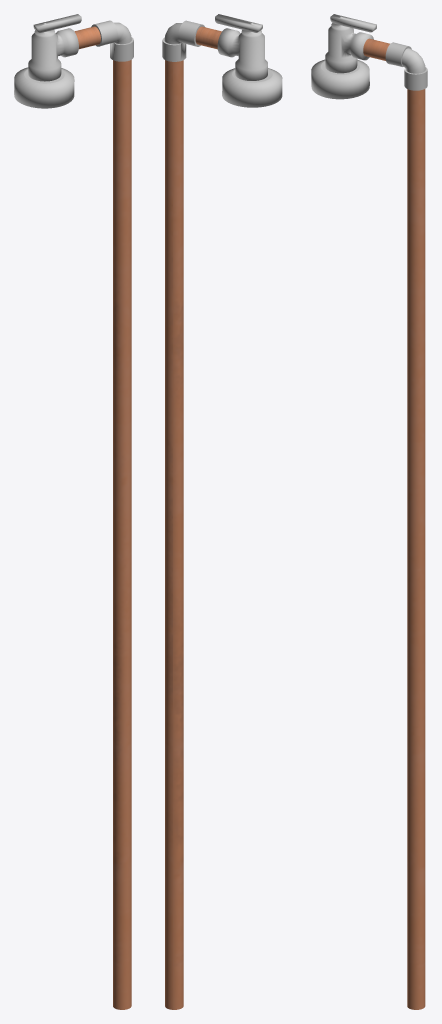
File: DWH PSV Line.fbx
The picture shows the model from 3 angles, left to right: view 1: azimuth 30°, elevation 25°; view 2: azimuth 150°, elevation 25°; view 3: azimuth 330°, elevation 25°; orthographic projection. The views are drawn at different scales.
Visible parts, largest first — view 1: Pipe 1.001, PSV, Exchanger Port.004, Elbow.021, Pipe 1.002; view 2: Pipe 1.001, PSV, Exchanger Port.004, Elbow.021, Pipe 1.002; view 3: Pipe 1.001, PSV, Exchanger Port.004, Elbow.021, Pipe 1.002.
Part boxes in pixels (x1=…): Pipe 1.001: x1=113, y1=60, x2=131, y2=1009; PSV: x1=28, y1=14, x2=81, y2=81; Exchanger Port.004: x1=14, y1=67, x2=74, y2=108; Elbow.021: x1=91, y1=20, x2=133, y2=61; Pipe 1.002: x1=74, y1=26, x2=100, y2=49; Pipe 1.001: x1=165, y1=60, x2=183, y2=1009; PSV: x1=215, y1=14, x2=267, y2=80; Exchanger Port.004: x1=222, y1=68, x2=282, y2=107; Elbow.021: x1=162, y1=20, x2=204, y2=61; Pipe 1.002: x1=195, y1=26, x2=221, y2=49; Pipe 1.001: x1=407, y1=89, x2=425, y2=1009; PSV: x1=325, y1=14, x2=376, y2=73; Exchanger Port.004: x1=311, y1=59, x2=369, y2=99; Elbow.021: x1=385, y1=42, x2=427, y2=90; Pipe 1.002: x1=363, y1=38, x2=389, y2=60.
Size of the model in its own units: 14.51 by 122 by 6.68.
